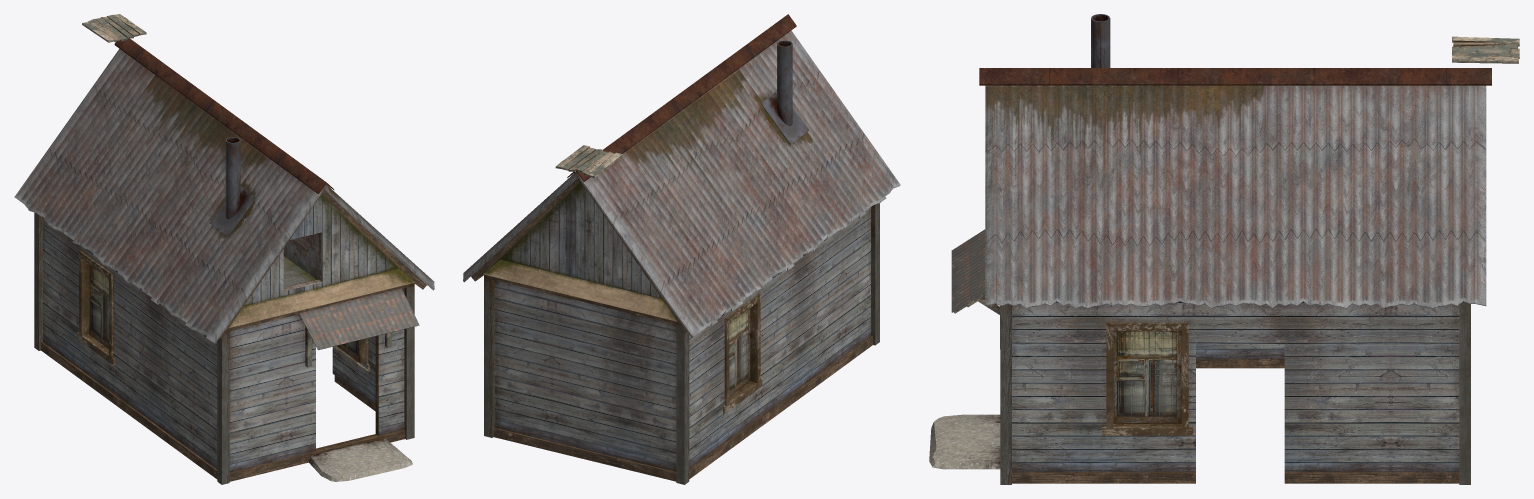
The model's file is wing.glb.
3 views of the same model, side by side, from view 1: azimuth 30°, elevation 25°; view 2: azimuth 150°, elevation 25°; view 3: azimuth 270°, elevation 25° (orthographic). The views are drawn at different scales.
Parts seen in each view (by area): view 1: Object023_Shifer_0, Box927_Down_0, Box931_Top_0, Cylinder002_Kozirek_0, Box932_Material #2143883280_0, Object_8; view 2: Box927_Down_0, Object023_Shifer_0, Box931_Top_0, Cylinder002_Kozirek_0, Object_8; view 3: Object023_Shifer_0, Box927_Down_0, Cylinder002_Kozirek_0, Box932_Material #2143883280_0, Object_8.
Boxes of the visible parts, left/top/right/bottom form: Object023_Shifer_0: left=14, top=38, right=434, bottom=343; Box927_Down_0: left=34, top=212, right=414, bottom=484; Box931_Top_0: left=219, top=190, right=426, bottom=338; Cylinder002_Kozirek_0: left=209, top=137, right=412, bottom=481; Box932_Material #2143883280_0: left=299, top=288, right=419, bottom=367; Object_8: left=82, top=14, right=146, bottom=42; Box927_Down_0: left=484, top=203, right=879, bottom=484; Object023_Shifer_0: left=463, top=14, right=900, bottom=337; Box931_Top_0: left=471, top=178, right=686, bottom=332; Cylinder002_Kozirek_0: left=761, top=40, right=809, bottom=144; Object_8: left=555, top=145, right=622, bottom=177; Object023_Shifer_0: left=979, top=68, right=1491, bottom=308; Box927_Down_0: left=1000, top=301, right=1470, bottom=484; Cylinder002_Kozirek_0: left=929, top=14, right=1110, bottom=469; Box932_Material #2143883280_0: left=951, top=229, right=1000, bottom=349; Object_8: left=1452, top=36, right=1519, bottom=63.
Size of the model in its own units: 5.25 by 6.58 by 9.27.
6 materials, 6 textured.
